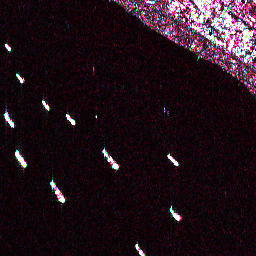ship: (47, 177, 68, 205), (100, 145, 121, 172), (12, 147, 30, 170), (165, 150, 181, 169), (167, 204, 183, 223), (63, 111, 78, 128), (2, 111, 16, 128), (133, 240, 146, 255), (14, 72, 27, 86), (39, 98, 52, 112), (2, 41, 14, 54)
